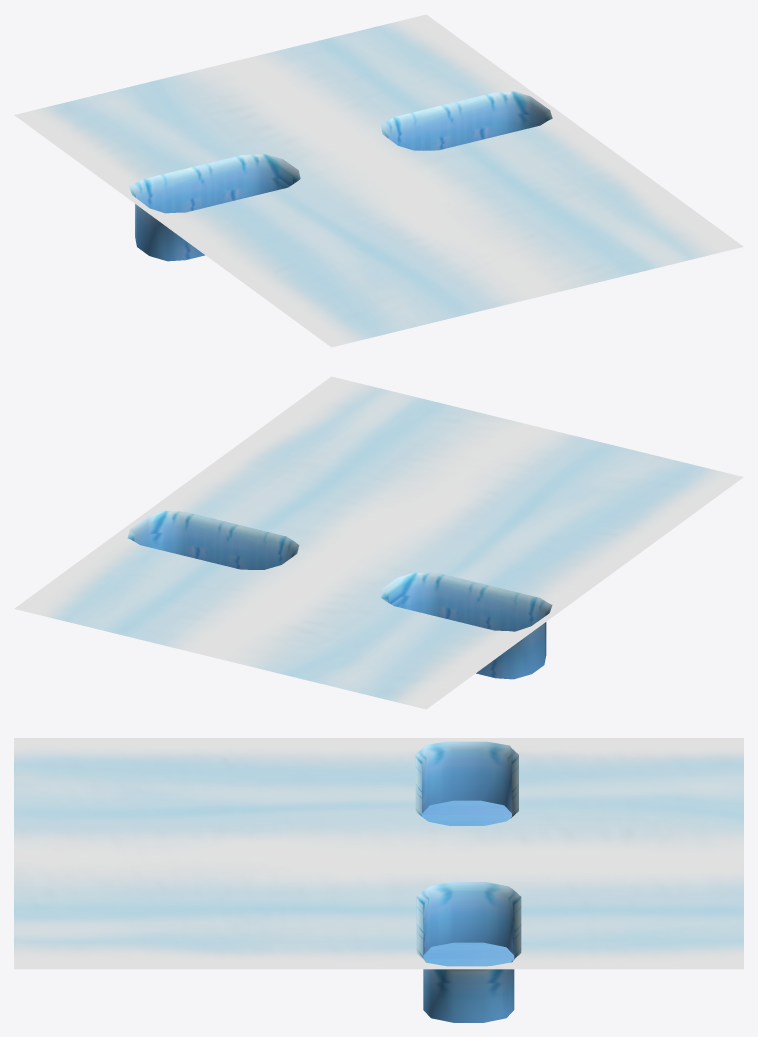
Rendered from Hole_M_02_D.FBX.
3 views of the same model, one above another, from view 1: azimuth 30°, elevation 25°; view 2: azimuth 150°, elevation 25°; view 3: azimuth 270°, elevation 25° (orthographic). The views are drawn at different scales.
Parts seen in each view (by area): view 1: modelRoad081; view 2: modelRoad081; view 3: modelRoad081.
Part boxes in pixels (box(x1,y1,x2,y2)): modelRoad081: box(14, 14, 743, 347); modelRoad081: box(14, 376, 743, 709); modelRoad081: box(14, 738, 743, 1022).
Size of the model in its own units: 600 by 70 by 800.
